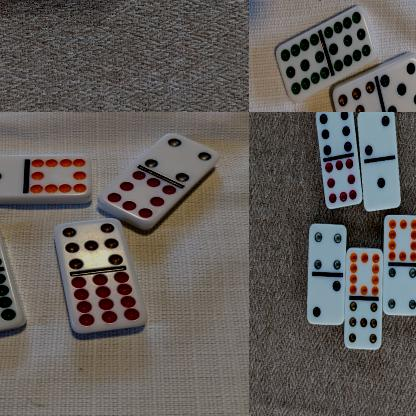pip-1: (361, 158, 401, 210), (0, 154, 25, 198)
pip-10: (26, 154, 91, 197), (344, 245, 382, 298), (382, 212, 416, 263)
pip-11: (276, 32, 329, 99), (322, 6, 374, 70), (0, 272, 20, 338)
pip-12: (63, 271, 146, 335)
pip-2: (355, 112, 396, 161), (306, 272, 344, 324)
pip-4: (142, 132, 220, 182), (308, 223, 346, 274), (381, 263, 416, 316)
pip-5: (380, 54, 416, 112)
pip-6: (314, 112, 352, 155)
pip-7: (52, 218, 124, 271), (344, 296, 382, 350), (332, 79, 381, 112)
pip-8: (96, 170, 176, 221), (324, 156, 362, 207)
